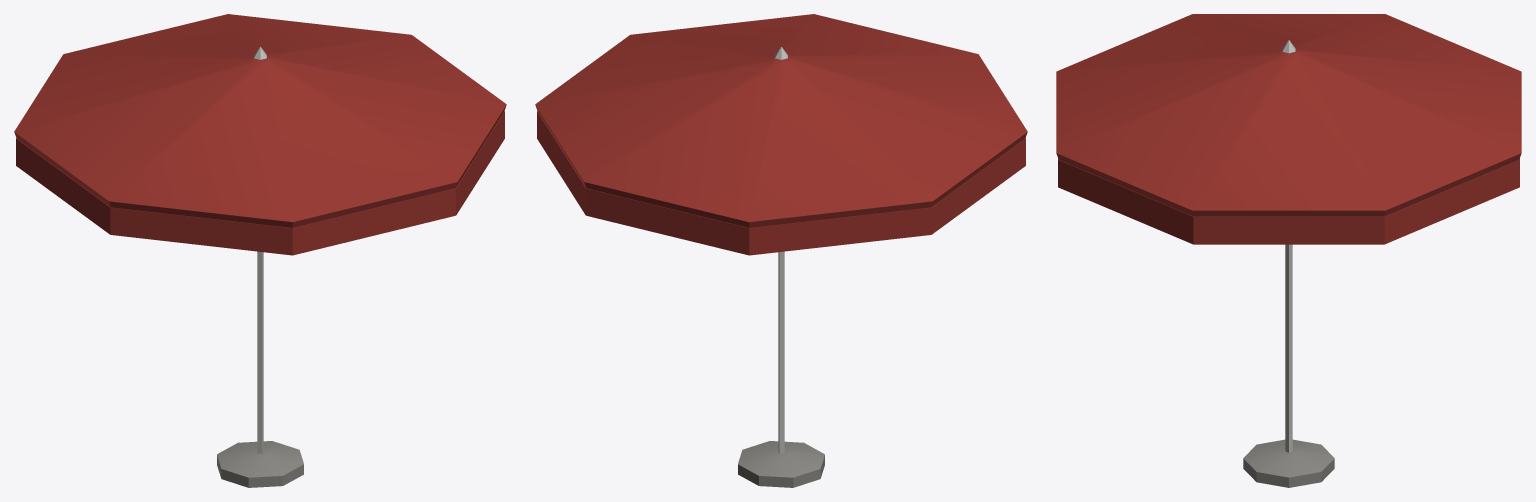
Rendered from SM_Prop_cafe_parasol_2_LOD1.glb.
3 renders of one model, left to right at view 1: azimuth 30°, elevation 25°; view 2: azimuth 150°, elevation 25°; view 3: azimuth 270°, elevation 25°, orthographic.
Parts seen in each view (by area): view 1: SM_Prop_cafe_parasol_2_LOD1; view 2: SM_Prop_cafe_parasol_2_LOD1; view 3: SM_Prop_cafe_parasol_2_LOD1.
Boxes of the visible parts, box(x1,y1,x2,y2) form: SM_Prop_cafe_parasol_2_LOD1: box(14, 14, 506, 487); SM_Prop_cafe_parasol_2_LOD1: box(535, 14, 1027, 487); SM_Prop_cafe_parasol_2_LOD1: box(1056, 14, 1521, 487).
Size of the model in its own units: 2.44 by 2.48 by 2.44.
